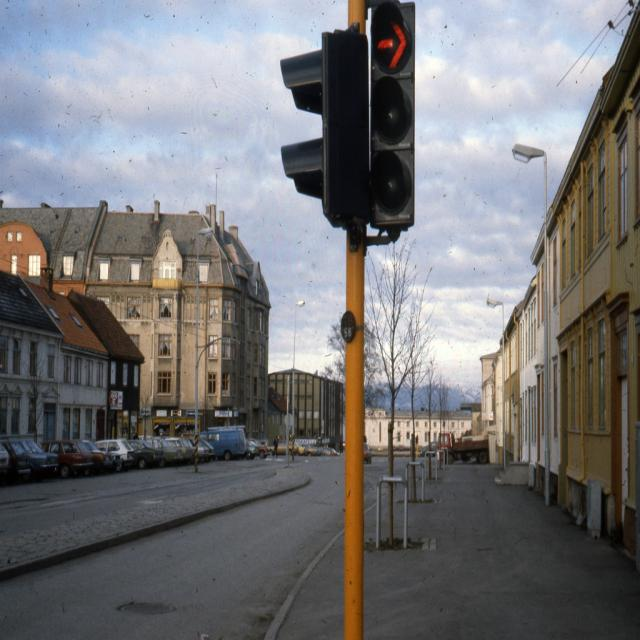off traffic light: (283, 25, 359, 225)
traffic light: (367, 0, 416, 226)
